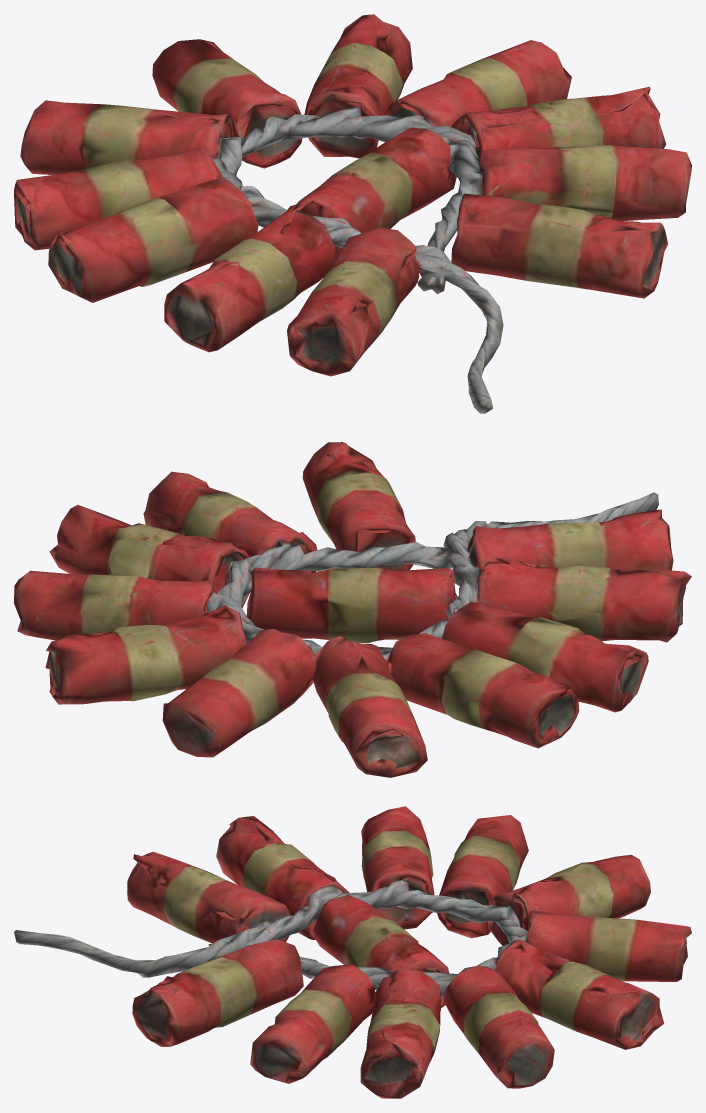
File: firecrackers.2a44a99c.glb
3 views of the same model, one above another, from view 1: azimuth 30°, elevation 25°; view 2: azimuth 150°, elevation 25°; view 3: azimuth 270°, elevation 25° (orthographic). The views are drawn at different scales.
Bounding box in the file's own units: 1.64 × 0.2179 × 1.9.
Materials: 1 (1 with a texture image).
